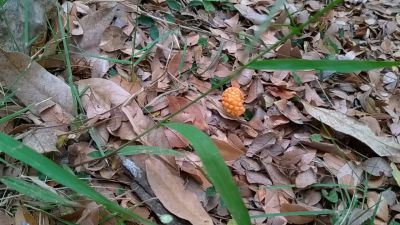eggs: (218, 82, 248, 118)
